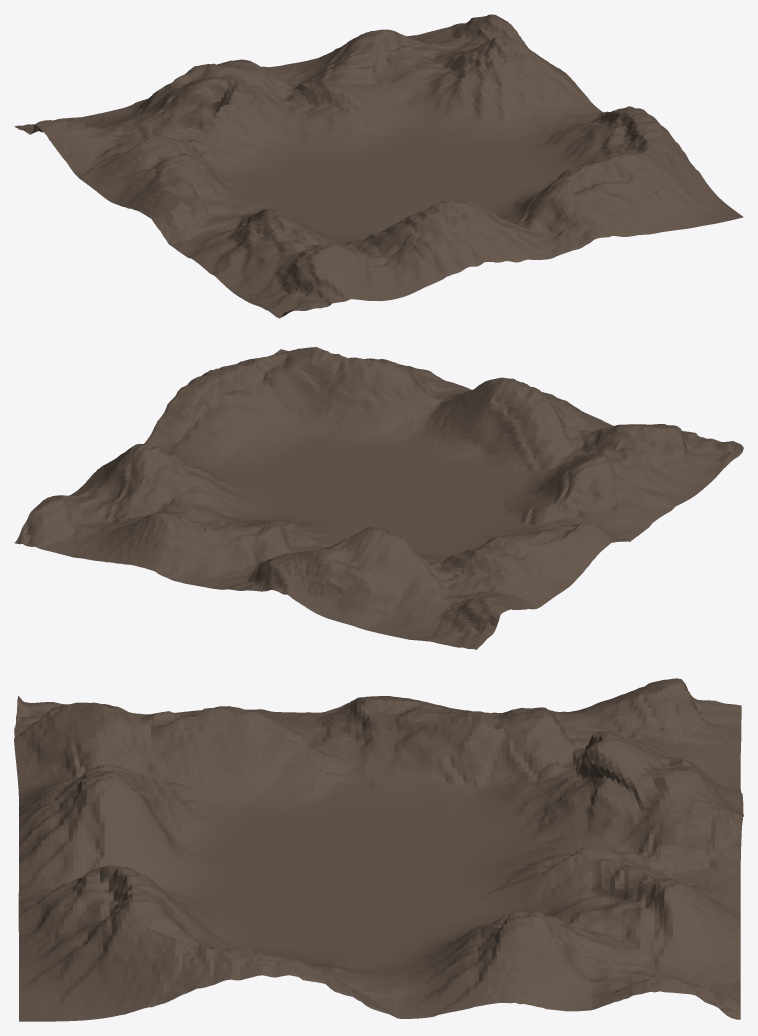
File: Main world.fbx
The picture shows the model from 3 angles, top to bottom: view 1: azimuth 30°, elevation 25°; view 2: azimuth 150°, elevation 25°; view 3: azimuth 270°, elevation 25°; orthographic projection. The views are drawn at different scales.
Parts seen in each view (by area): view 1: pPlane1; view 2: pPlane1; view 3: pPlane1.
Part boxes in pixels (x1,y1,x2,y2): pPlane1: (14,14,743,318); pPlane1: (14,347,743,649); pPlane1: (14,678,743,1021).
Bounding box in the file's own units: 24.21 × 2.76 × 24.28.
